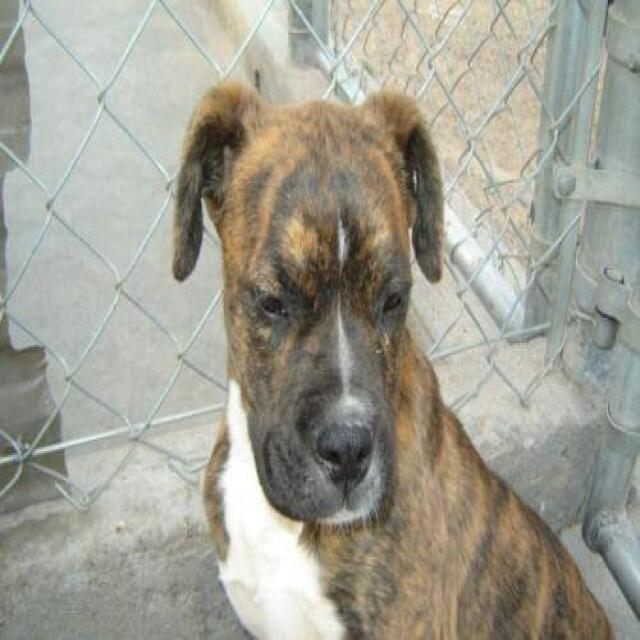dog: (170, 75, 613, 638)
